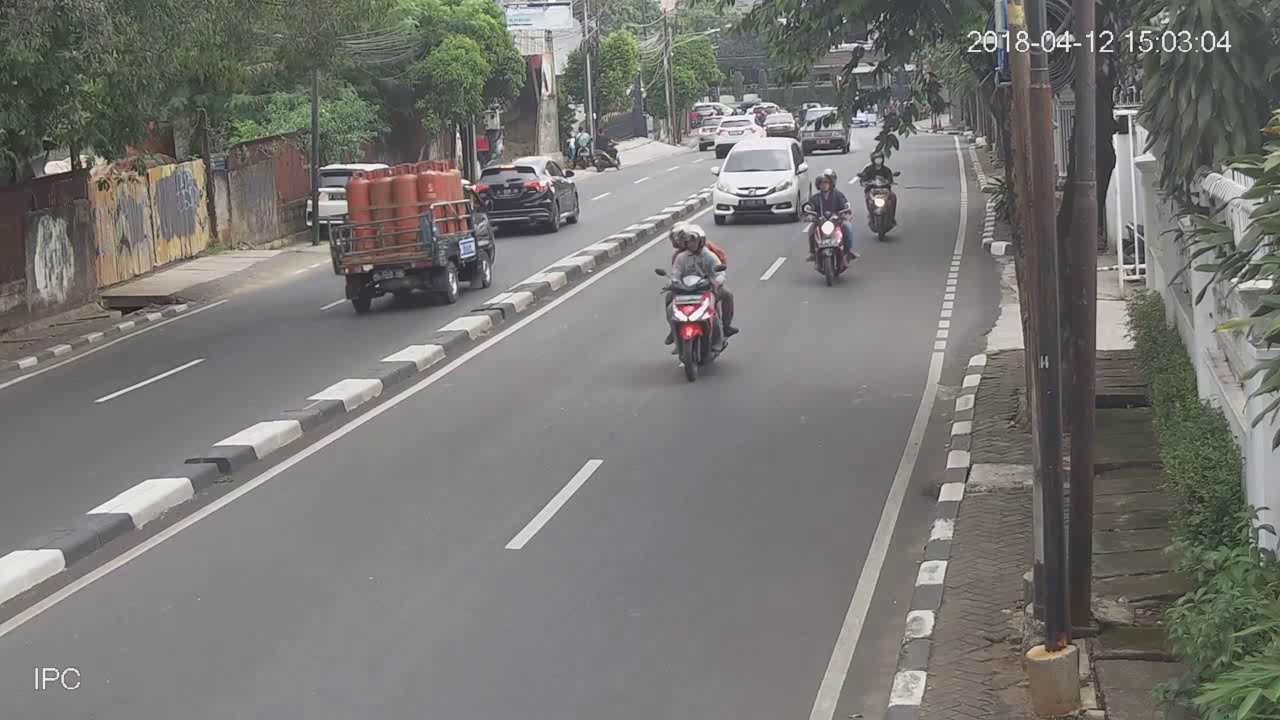car: (466, 153, 585, 235), (712, 135, 811, 222)
motorcycle: (649, 216, 743, 392), (800, 166, 858, 289), (854, 147, 908, 241)
truck: (323, 161, 500, 308)
